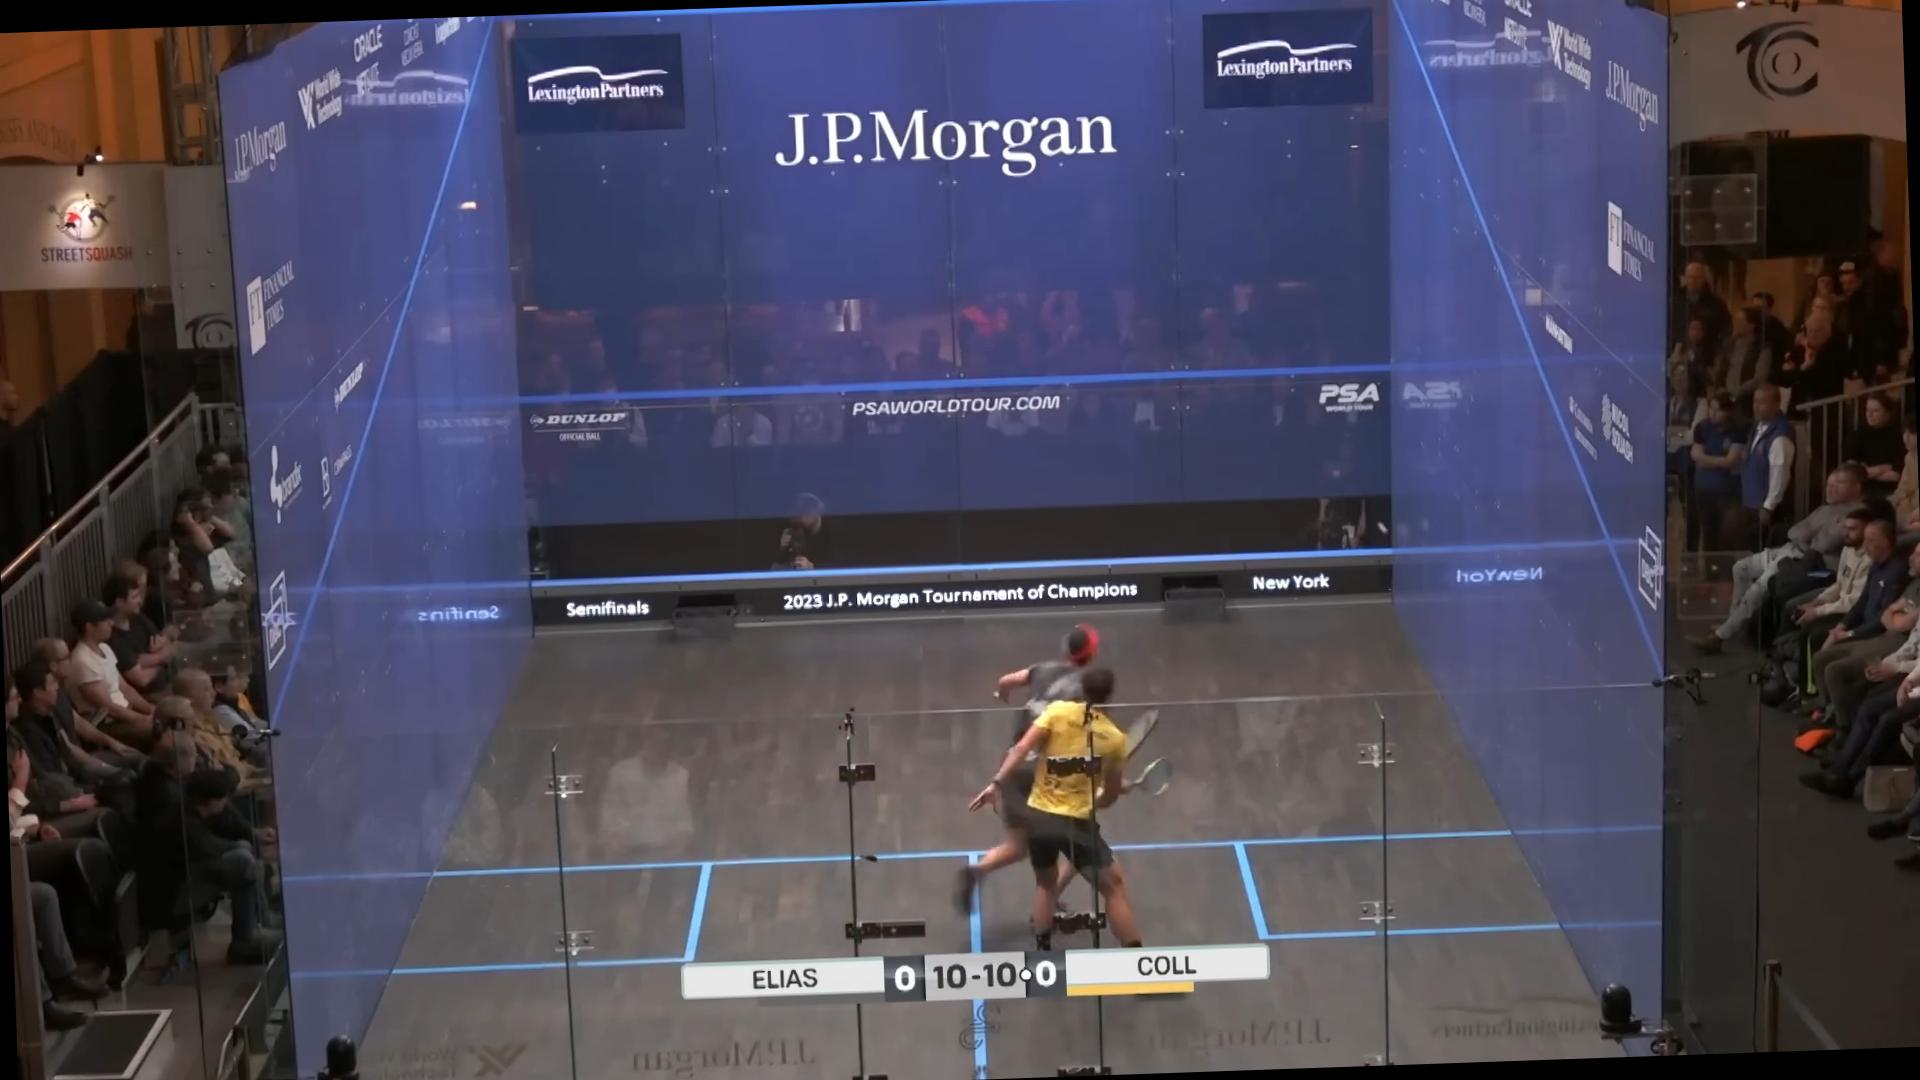Racket: (1105, 699, 1175, 761), (1122, 749, 1189, 808)
